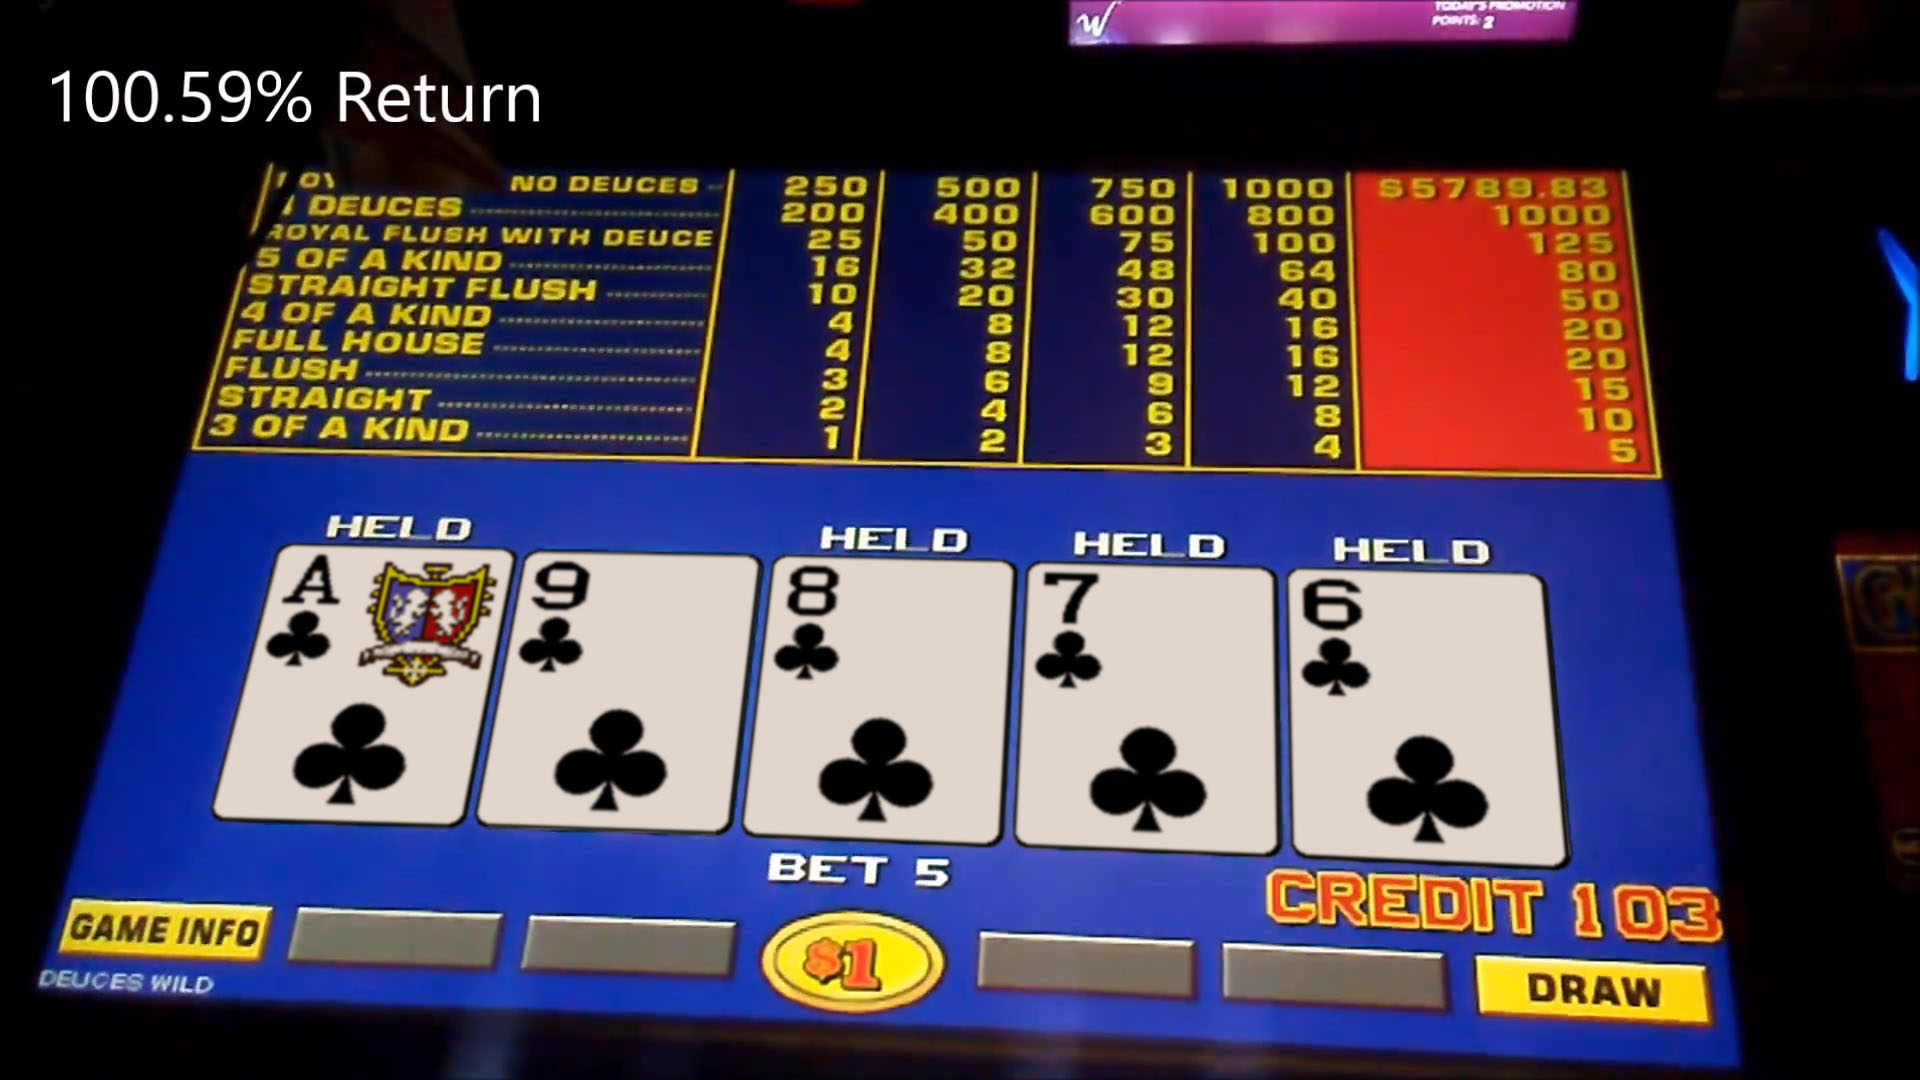C6: (1294, 575, 1540, 707)
C7: (1027, 566, 1270, 704)
C8: (771, 558, 1007, 696)
C9: (520, 553, 745, 688)
CA: (265, 549, 491, 684)
